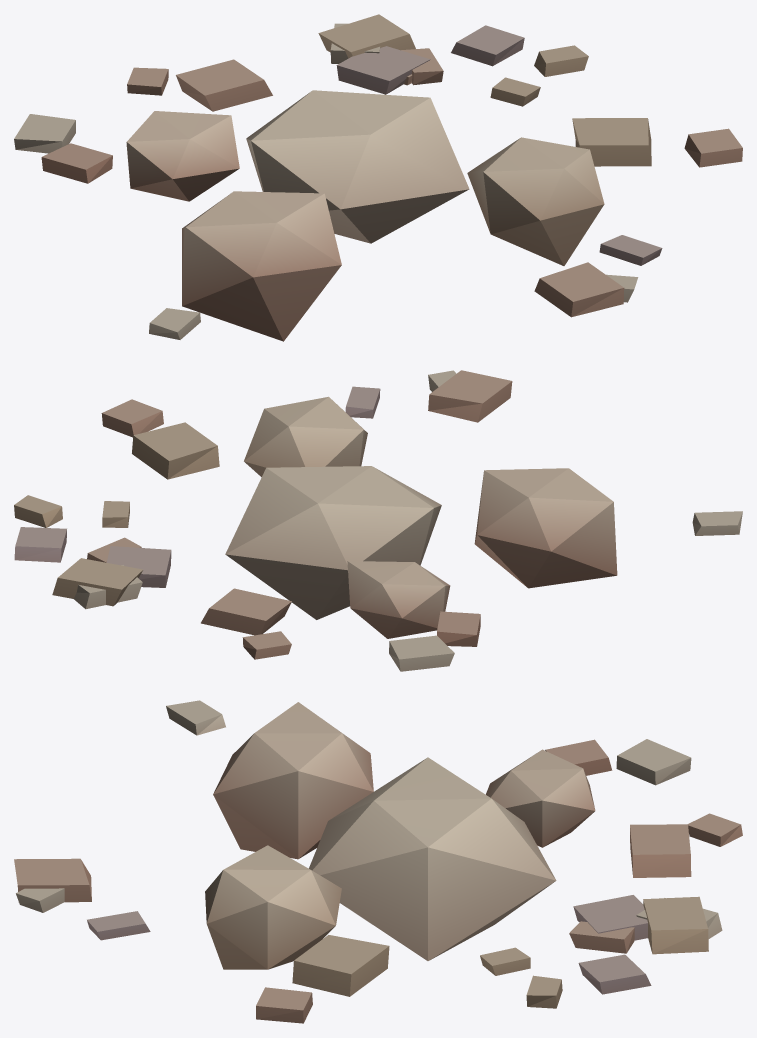
Rendered from sandstone_quarried_a.glb.
The picture shows the model from 3 angles, top to bottom: view 1: azimuth 30°, elevation 25°; view 2: azimuth 150°, elevation 25°; view 3: azimuth 270°, elevation 25°; orthographic projection. The views are drawn at different scales.
Parts seen in each view (by area): view 1: sandstone_quarried_a; view 2: sandstone_quarried_a; view 3: sandstone_quarried_a.
Part boxes in pixels (x1=…): sandstone_quarried_a: x1=14, y1=14, x2=742, y2=341; sandstone_quarried_a: x1=14, y1=370, x2=742, y2=671; sandstone_quarried_a: x1=14, y1=700, x2=742, y2=1023.
Size of the model in its own units: 1.95 by 0.3661 by 1.91.
